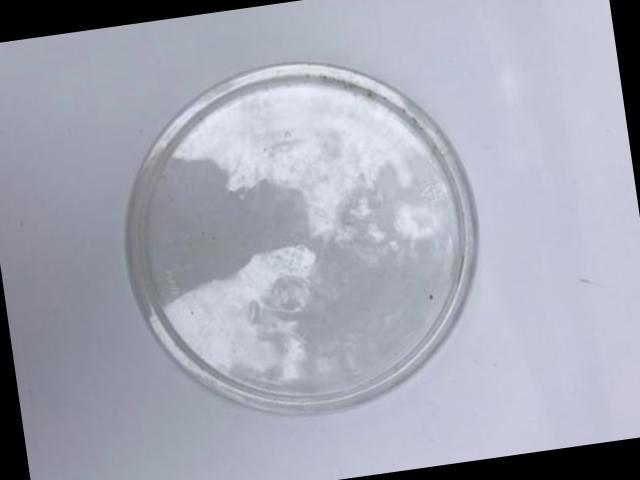plastic: (130, 66, 480, 416)
